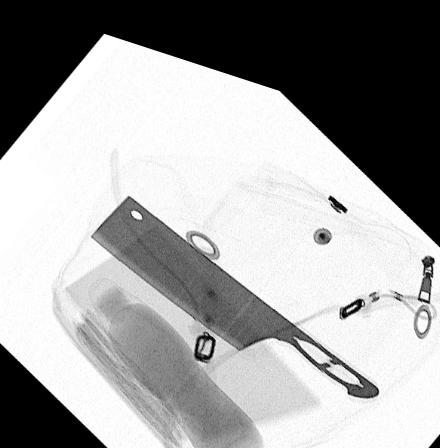Knife: (86, 184, 381, 378)
